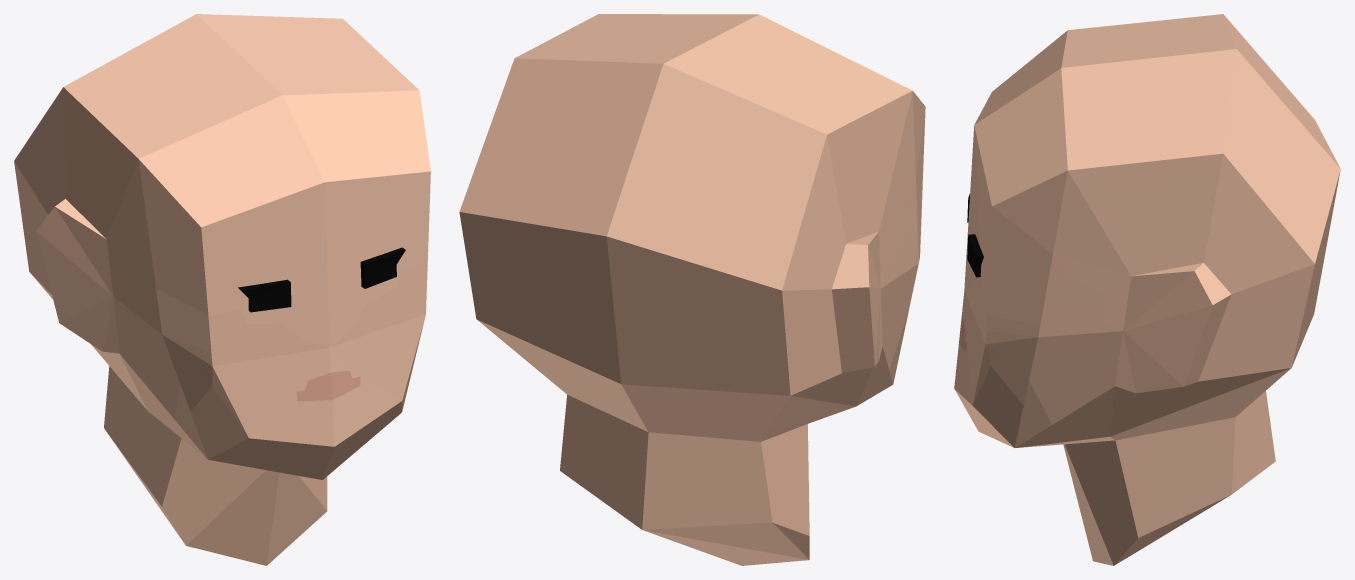
The model's file is Chr_Head_Female_19_Static.fbx.
The picture shows the model from 3 angles, left to right: view 1: azimuth 30°, elevation 25°; view 2: azimuth 150°, elevation 25°; view 3: azimuth 270°, elevation 25°; orthographic projection. The views are drawn at different scales.
Parts seen in each view (by area): view 1: Chr_Head_Female_19_Static; view 2: Chr_Head_Female_19_Static; view 3: Chr_Head_Female_19_Static.
Part boxes in pixels (bbox=[...]): Chr_Head_Female_19_Static: bbox=[14, 14, 430, 565]; Chr_Head_Female_19_Static: bbox=[459, 14, 925, 565]; Chr_Head_Female_19_Static: bbox=[954, 14, 1340, 565].
Size of the model in its own units: 0.2661 by 0.3693 by 0.2526.
